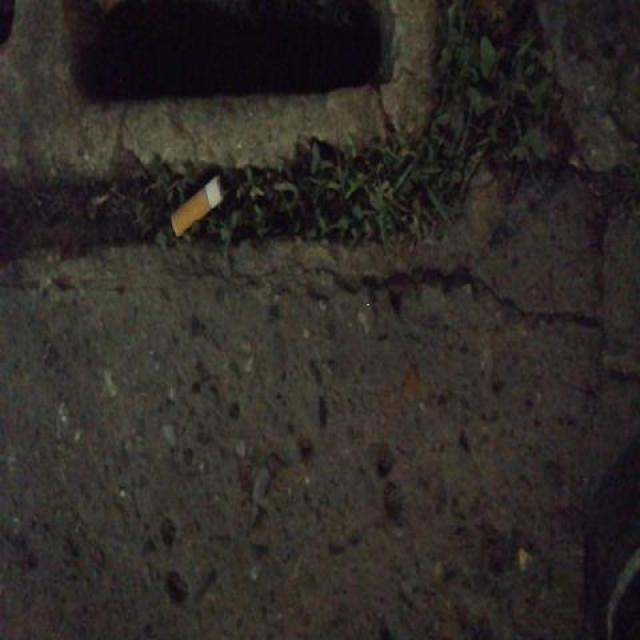non-organic waste: (166, 171, 231, 241)
